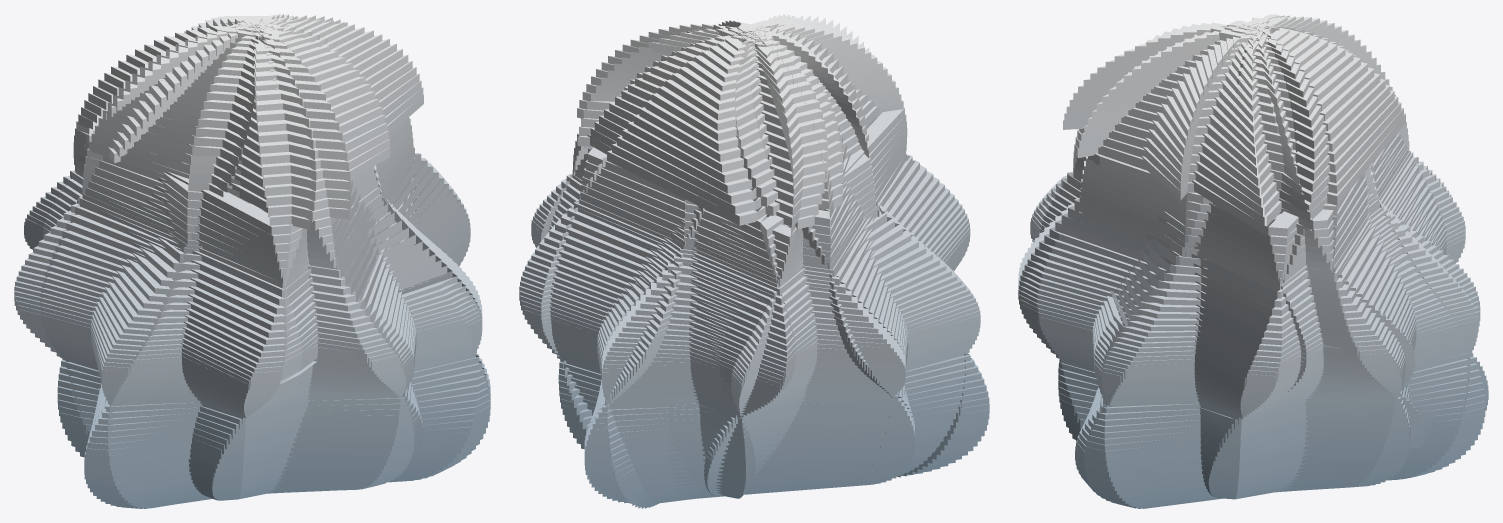
File: blue_animated.glb
3 views of the same model, side by side, from view 1: azimuth 30°, elevation 25°; view 2: azimuth 150°, elevation 25°; view 3: azimuth 270°, elevation 25° (orthographic).
Parts seen in each view (by area): view 1: blueOffff; view 2: blueOffff; view 3: blueOffff.
Boxes of the visible parts, box(x1,y1,x2,y2) form: blueOffff: box(14, 14, 490, 508); blueOffff: box(519, 14, 989, 508); blueOffff: box(1018, 14, 1488, 508).
Bounding box in the file's own units: 232 × 232 × 226.
